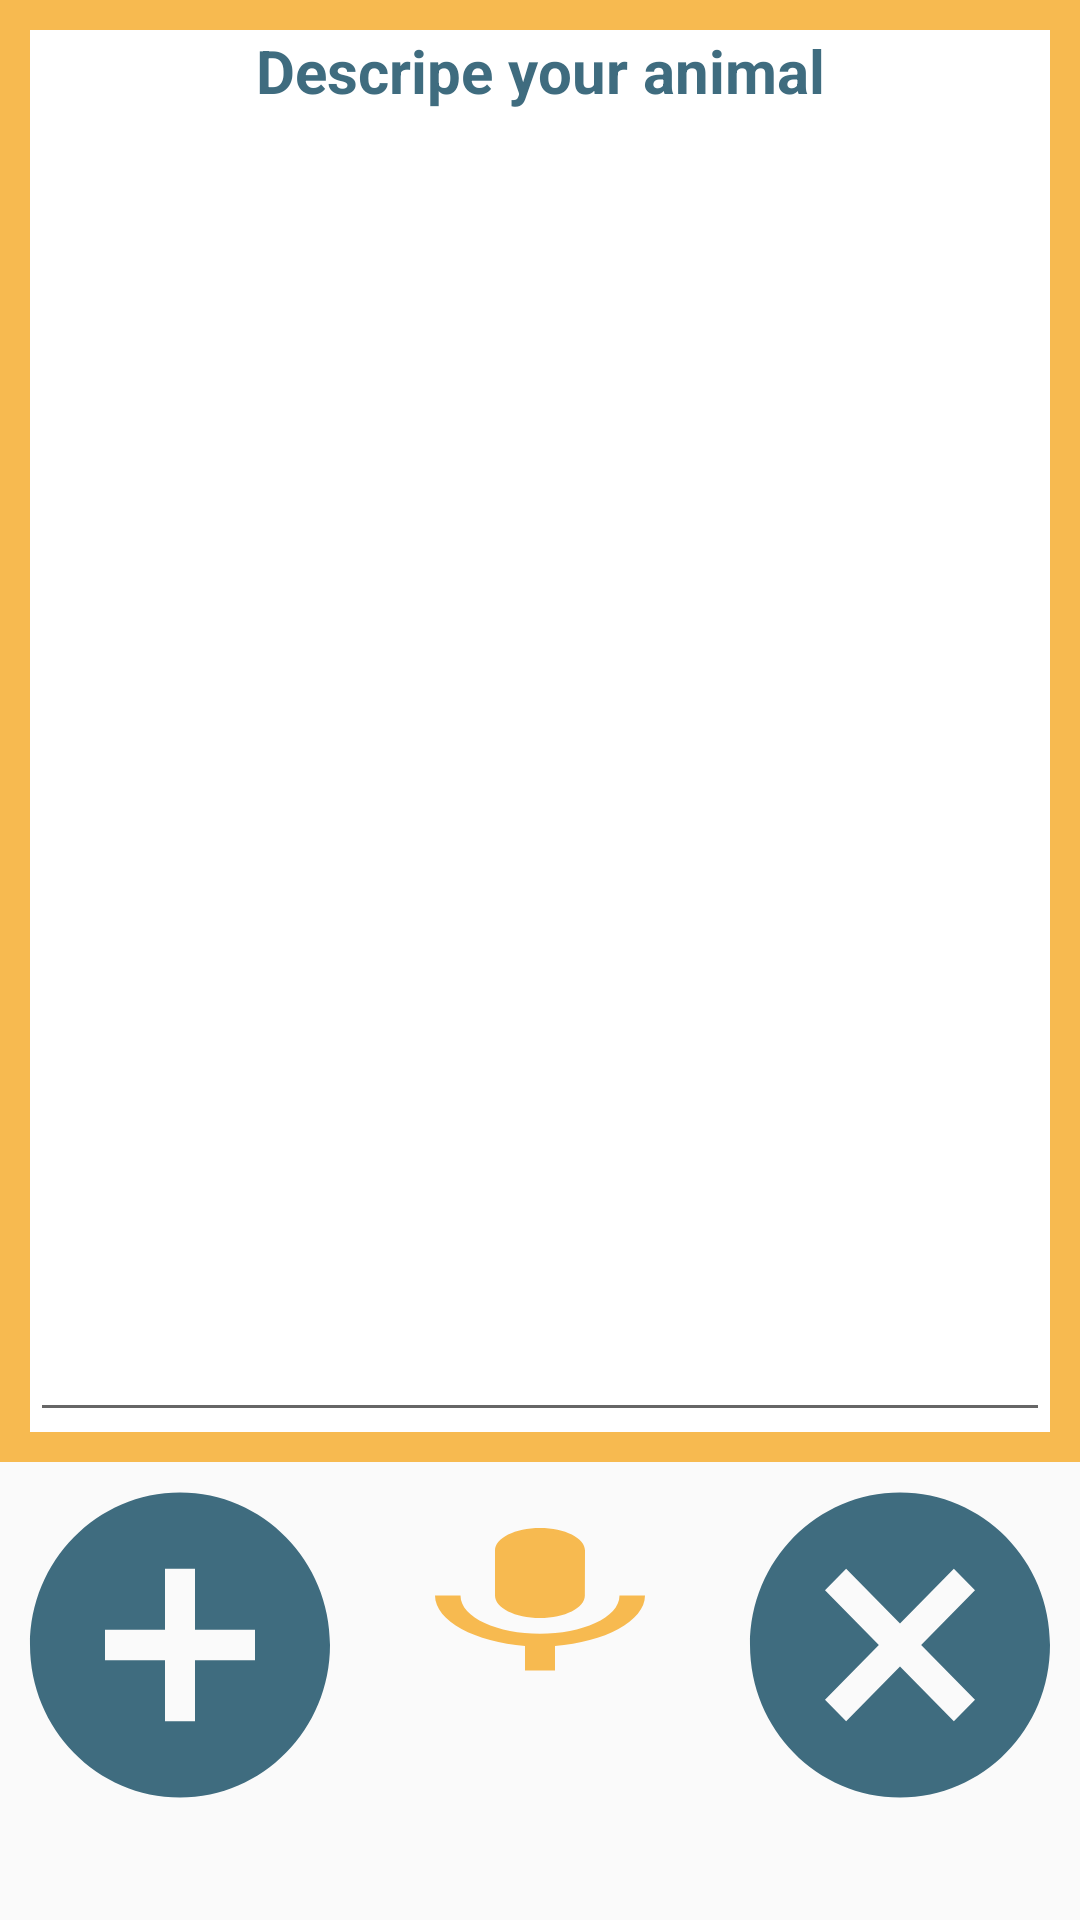

Named icons in this screenshot (1080*1920) and their centers, (x=x, y=y):
add circle: (x=180, y=1645)
cancel: (x=900, y=1645)
mic: (x=540, y=1599)
